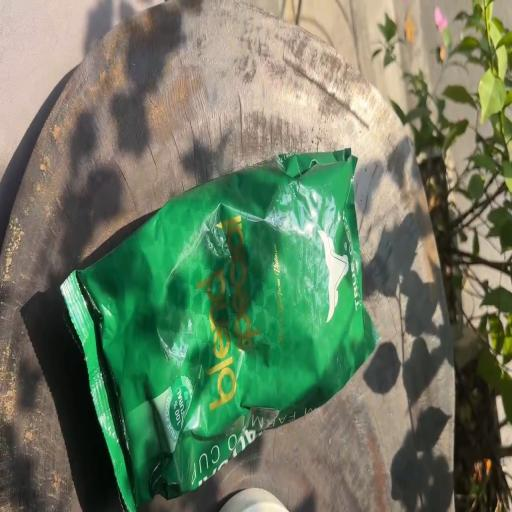cafe_xay: (61, 149, 378, 511)
